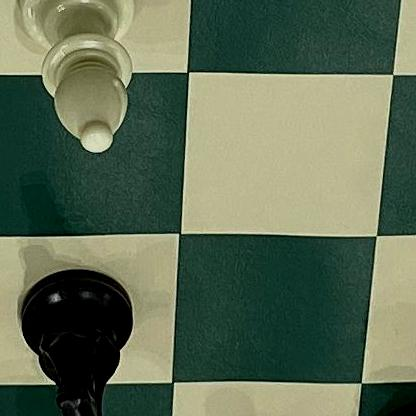black-knight: (1, 257, 165, 416)
white-bishop: (0, 0, 153, 172)
